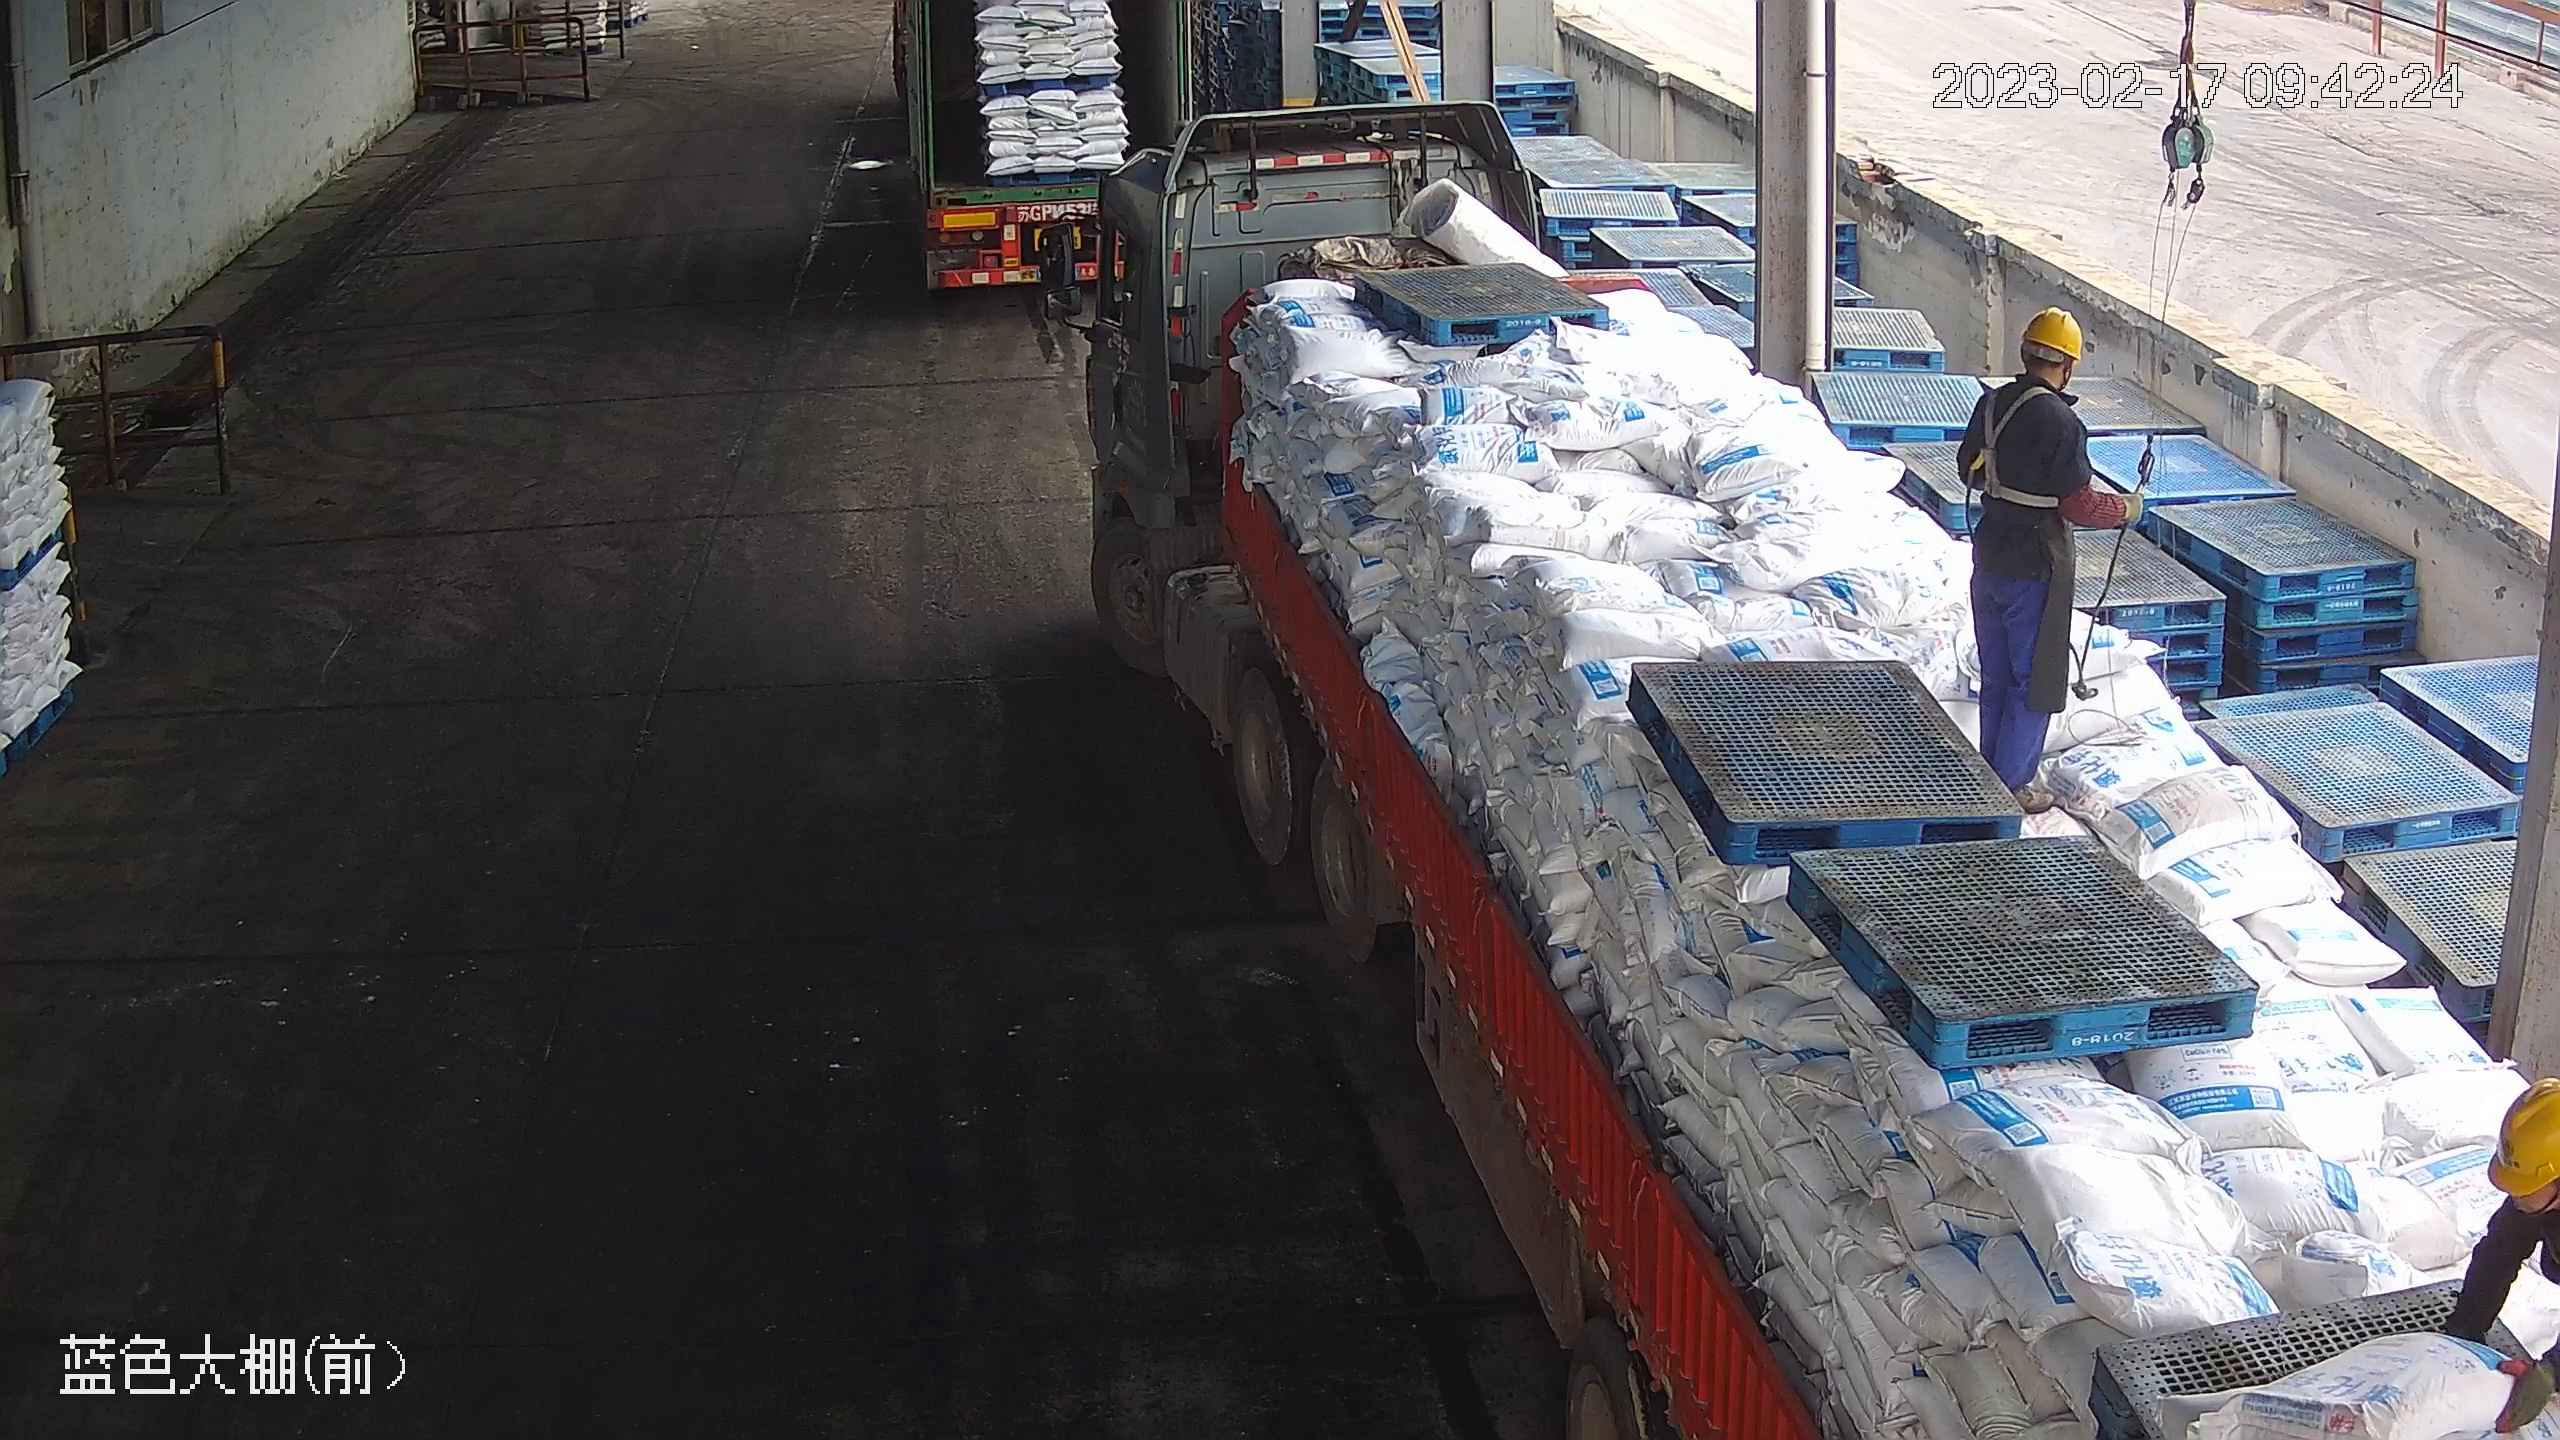belt: (1966, 381, 2069, 509)
head: (1961, 301, 2100, 452)
helmet: (2478, 1078, 2560, 1199), (2017, 297, 2088, 360)
people: (1954, 301, 2146, 806)
truck: (1040, 98, 2555, 1440), (890, 2, 1182, 298)
